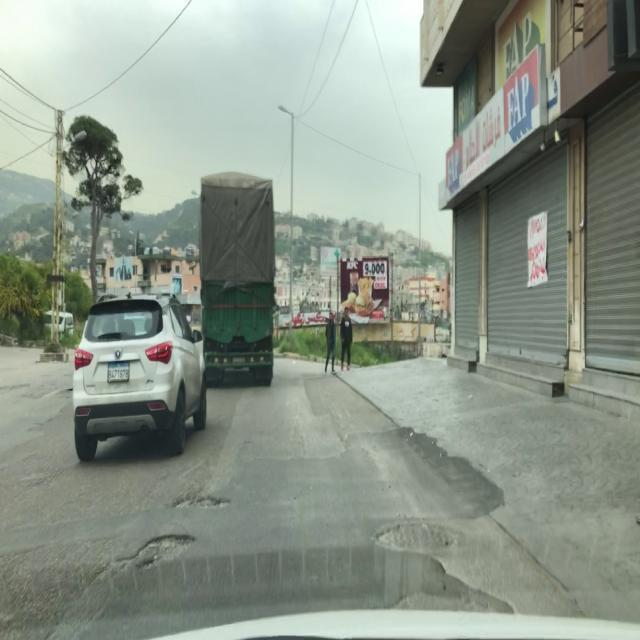pothole: (137, 531, 197, 558), (173, 493, 231, 513), (66, 388, 73, 393)
